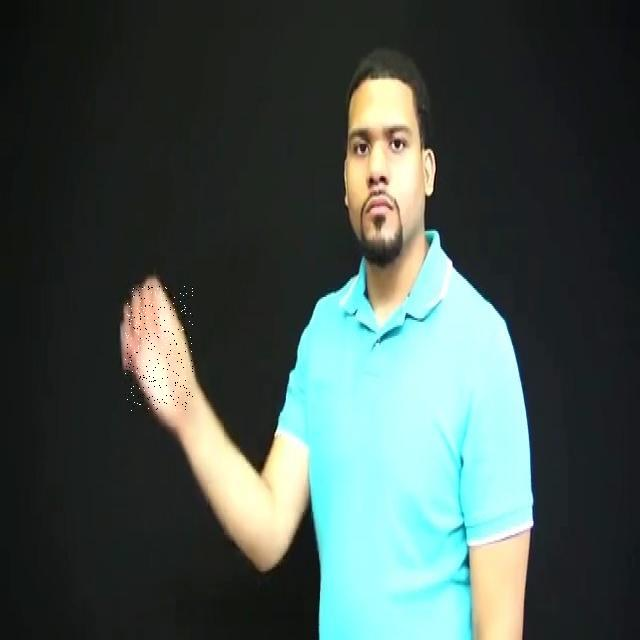pepper: (125, 286, 193, 412)
